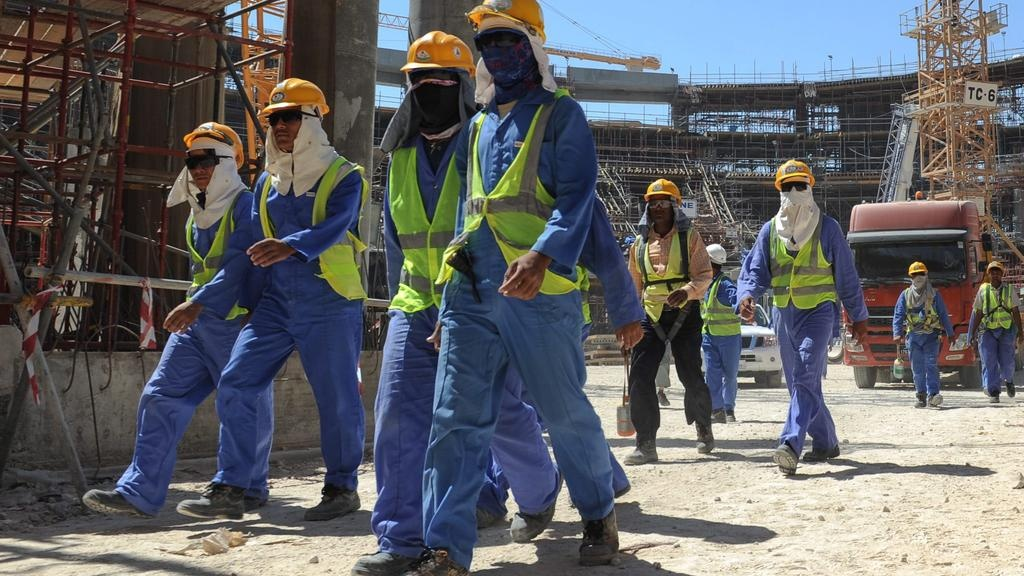white: (705, 242, 726, 274)
yellow: (471, 1, 548, 84), (402, 32, 474, 116), (180, 122, 245, 191), (267, 78, 319, 145), (774, 158, 814, 206), (642, 178, 683, 223), (908, 259, 928, 287), (986, 260, 1004, 285)
